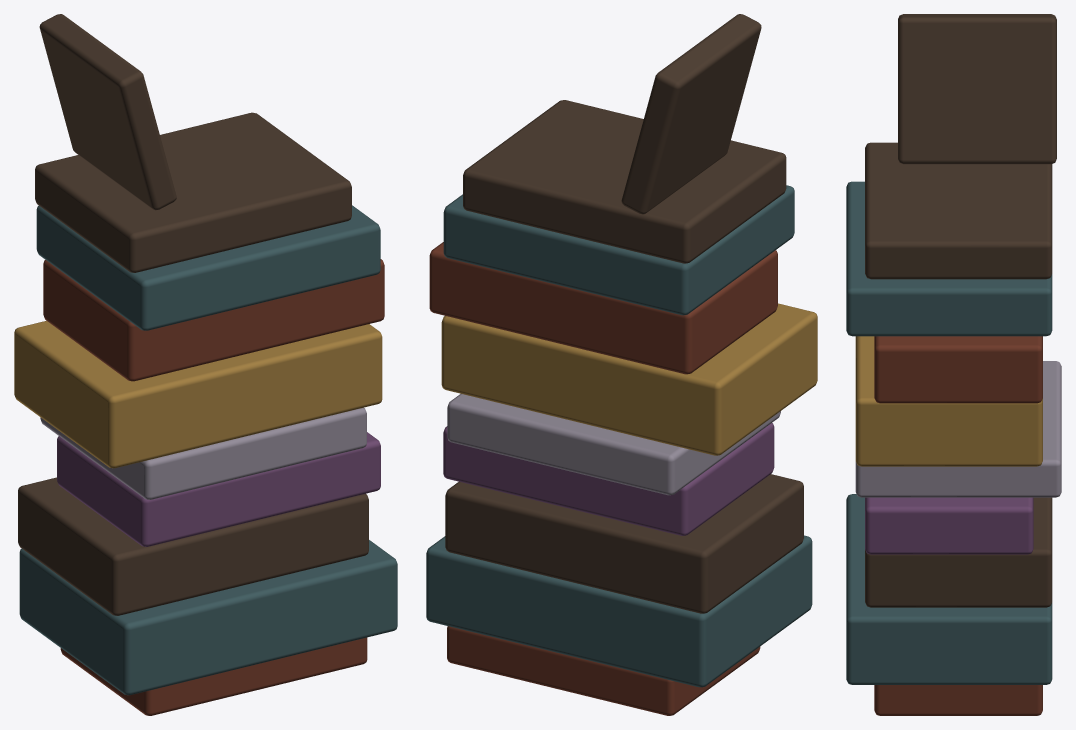
Rendered from SM_PRP_PilhaLivros.fbx.
3 renders of one model, left to right at view 1: azimuth 30°, elevation 25°; view 2: azimuth 150°, elevation 25°; view 3: azimuth 270°, elevation 25°, orthographic. The views are drawn at different scales.
Visible parts, largest first — view 1: SM_PRP_PilhaLivros; view 2: SM_PRP_PilhaLivros; view 3: SM_PRP_PilhaLivros.
Boxes of the visible parts, bbox=[...] form: SM_PRP_PilhaLivros: bbox=[14, 14, 397, 715]; SM_PRP_PilhaLivros: bbox=[426, 14, 817, 715]; SM_PRP_PilhaLivros: bbox=[846, 14, 1061, 715].
Bounding box in the file's own units: 0.334 × 0.7086 × 0.23.
